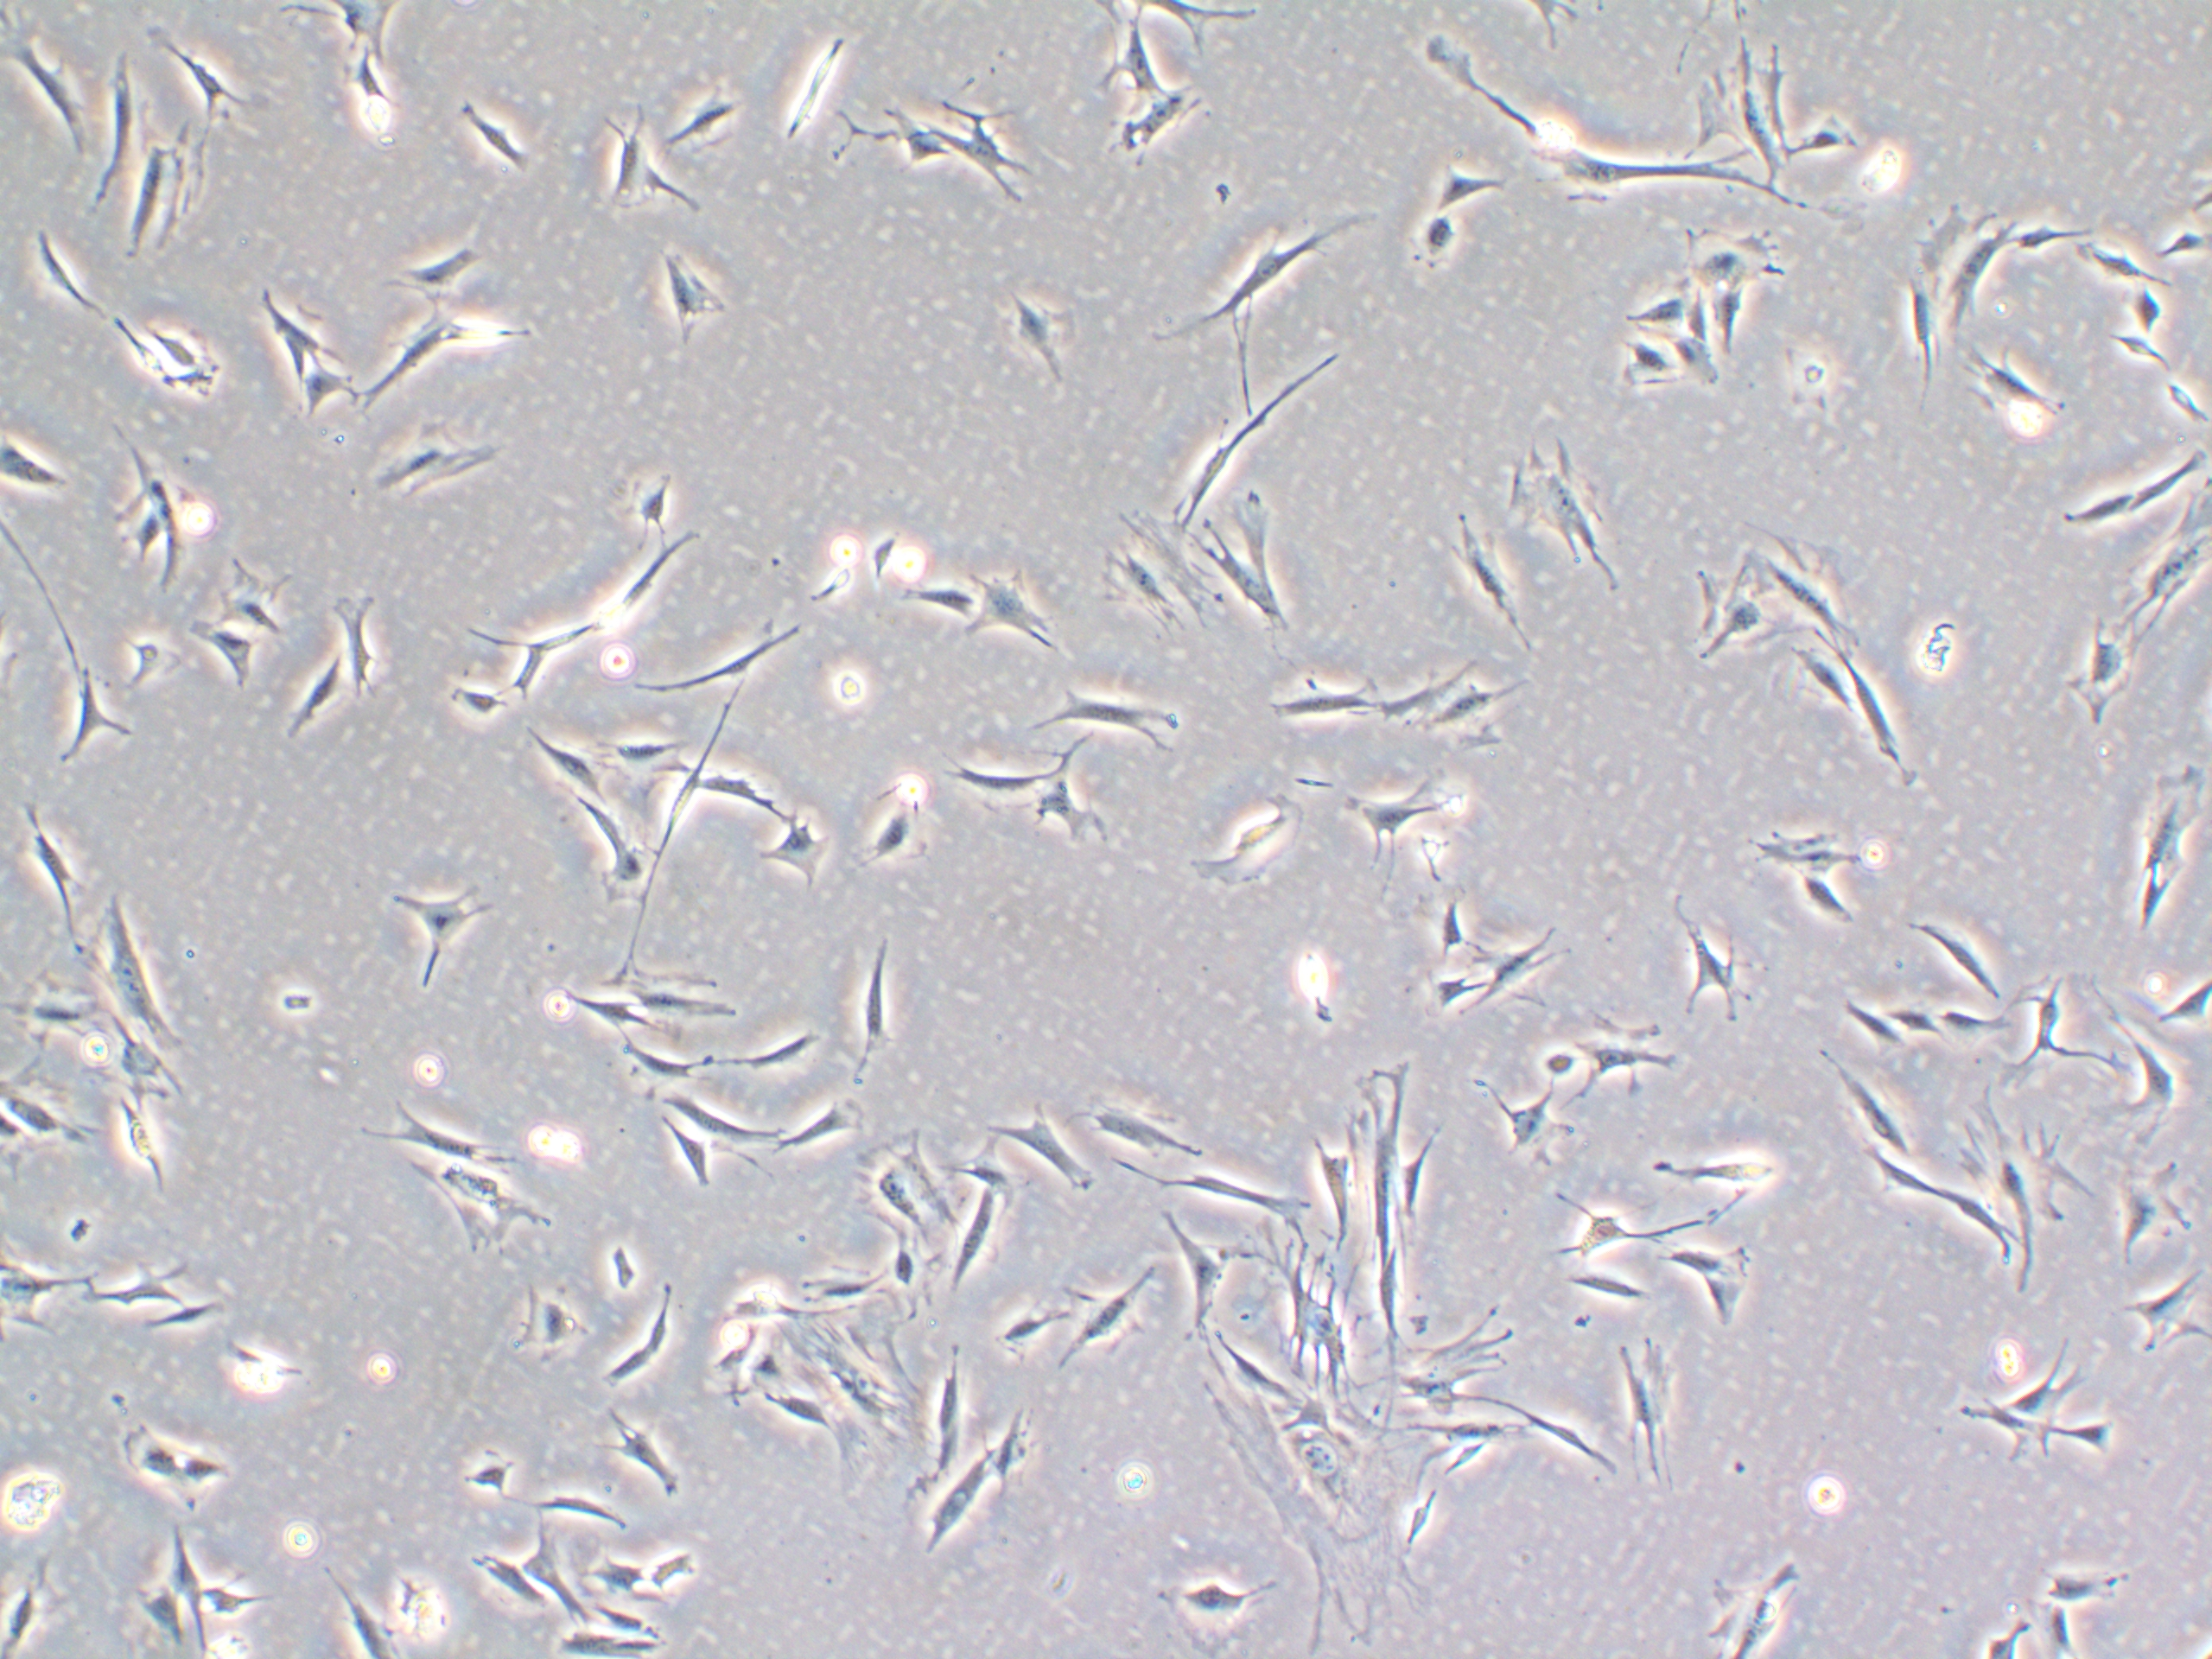Etc: (801, 30, 855, 101), (1393, 1486, 1435, 1558), (2104, 333, 2181, 371), (1430, 1441, 1489, 1483), (2155, 382, 2212, 418)
polygonal: (1169, 181, 1369, 357), (1162, 361, 1341, 521), (103, 404, 218, 617), (61, 887, 188, 1063), (1954, 1354, 2134, 1466), (829, 918, 937, 1093), (1430, 511, 1550, 666), (1404, 664, 1566, 775), (1538, 136, 1763, 216), (627, 613, 819, 706), (21, 669, 162, 786), (1829, 634, 1933, 791), (352, 401, 507, 505), (395, 863, 514, 999), (2127, 756, 2212, 945), (1813, 1051, 1937, 1176), (932, 98, 1054, 223), (1568, 1000, 1702, 1112), (1665, 887, 1763, 1035), (1219, 491, 1310, 650), (1050, 1251, 1160, 1382), (1022, 678, 1197, 758), (336, 310, 470, 413), (78, 49, 157, 220), (1332, 772, 1465, 873), (2094, 993, 2184, 1140), (1062, 1084, 1214, 1171), (1127, 1152, 1315, 1222), (1667, 547, 1775, 667), (1606, 1330, 1684, 1495), (146, 23, 265, 131), (369, 220, 512, 308), (1463, 918, 1571, 1035), (596, 105, 704, 221), (101, 1396, 197, 1527), (489, 1269, 601, 1380), (2090, 1147, 2195, 1265), (1127, 1560, 1280, 1640), (327, 573, 399, 744), (979, 263, 1082, 382), (5, 791, 85, 943), (836, 782, 948, 890), (1895, 908, 2010, 1012), (986, 1094, 1101, 1199), (559, 779, 658, 899), (1703, 1549, 1811, 1659), (925, 753, 1122, 812), (604, 516, 707, 629), (1153, 1208, 1238, 1340), (599, 1277, 698, 1391), (1740, 800, 1865, 885), (592, 1396, 695, 1499), (256, 650, 362, 749), (359, 1103, 516, 1169), (1501, 1398, 1627, 1478), (965, 563, 1064, 662), (31, 216, 115, 333), (251, 281, 338, 392), (1665, 220, 1811, 286), (2008, 1553, 2155, 1619), (1658, 1234, 1761, 1328), (516, 721, 618, 816), (442, 91, 547, 181), (1259, 662, 1388, 735), (742, 810, 840, 906), (2066, 232, 2186, 308), (1109, 77, 1219, 160), (1479, 1080, 1569, 1182), (918, 1455, 996, 1565), (2111, 1269, 2212, 1352), (155, 1525, 218, 1659), (1770, 629, 1864, 718), (543, 978, 655, 1053), (913, 1351, 979, 1476), (857, 1230, 946, 1323), (655, 1096, 792, 1155), (646, 239, 728, 333), (1094, 12, 1174, 108), (596, 734, 700, 807), (979, 1288, 1071, 1370), (516, 1525, 594, 1621), (937, 1121, 1026, 1204), (728, 1026, 834, 1094), (462, 1544, 552, 1622), (77, 1263, 207, 1317), (1395, 887, 1477, 971), (2034, 472, 2137, 537), (505, 1488, 636, 1539), (212, 554, 294, 634), (639, 1117, 714, 1204), (1998, 202, 2104, 263), (878, 91, 951, 178), (608, 469, 691, 544), (1369, 1246, 1421, 1364), (601, 1037, 714, 1091), (1312, 1126, 1357, 1258), (627, 992, 754, 1039), (697, 765, 791, 828), (982, 1408, 1052, 1492), (1832, 999, 1916, 1068), (777, 1096, 874, 1155), (944, 1194, 996, 1303), (1787, 96, 1869, 166), (1404, 965, 1487, 1033), (186, 612, 254, 694), (1397, 1121, 1440, 1244), (139, 1293, 235, 1349), (786, 1263, 881, 1317), (1557, 1269, 1658, 1319), (1393, 206, 1470, 272), (888, 568, 984, 620), (540, 1624, 683, 1659), (1611, 336, 1674, 415), (176, 1425, 233, 1511), (120, 1582, 195, 1647), (751, 1392, 838, 1446), (1432, 155, 1512, 213), (2015, 1588, 2080, 1659), (1667, 336, 1728, 408), (1796, 878, 1867, 939), (296, 354, 361, 420), (455, 1436, 524, 1497), (1618, 275, 1688, 336), (197, 1575, 275, 1626), (2142, 207, 2212, 260), (1714, 288, 1752, 368), (2054, 1417, 2125, 1457), (2120, 288, 2174, 340), (1683, 279, 1717, 350)
small-round: (1777, 335, 1864, 423), (824, 650, 892, 728), (434, 683, 517, 732)
spread: (1169, 1337, 1451, 1642), (1939, 1096, 2101, 1307), (1498, 413, 1649, 596), (787, 1321, 951, 1483), (1683, 35, 1803, 214), (1090, 504, 1237, 638), (1738, 519, 1872, 664), (850, 1114, 970, 1270), (1909, 206, 2017, 378)
